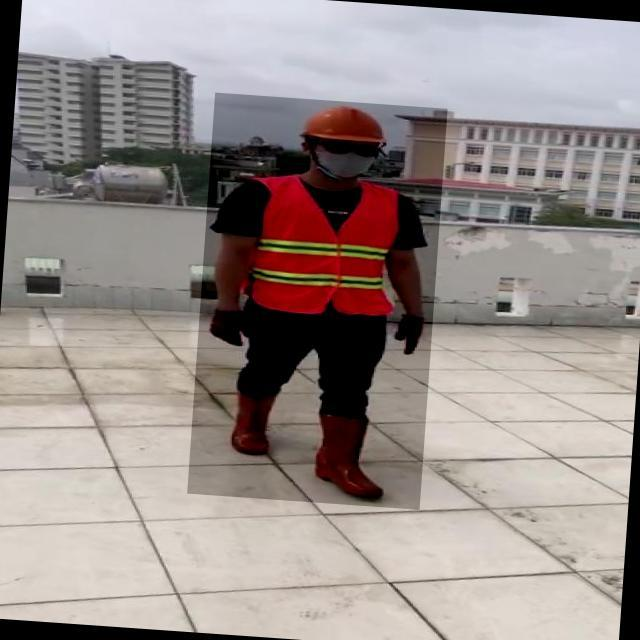Gloves: (208, 310, 260, 349), (391, 313, 424, 356)
Helmet: (299, 100, 389, 145)
Human: (187, 92, 447, 510)
Safety Boot: (308, 412, 388, 498), (227, 385, 277, 457)
Safety Vest: (241, 175, 401, 318)
